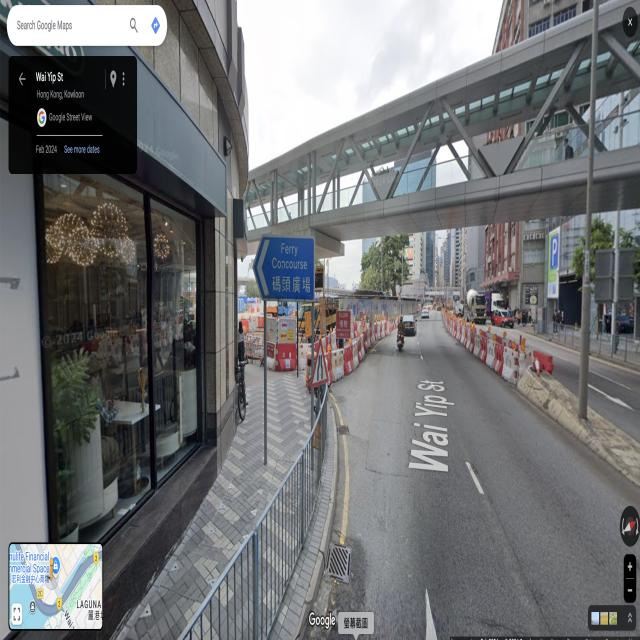Direction-Sign: (252, 233, 315, 301)
Warning-Sign: (310, 338, 329, 390), (336, 310, 351, 338)
